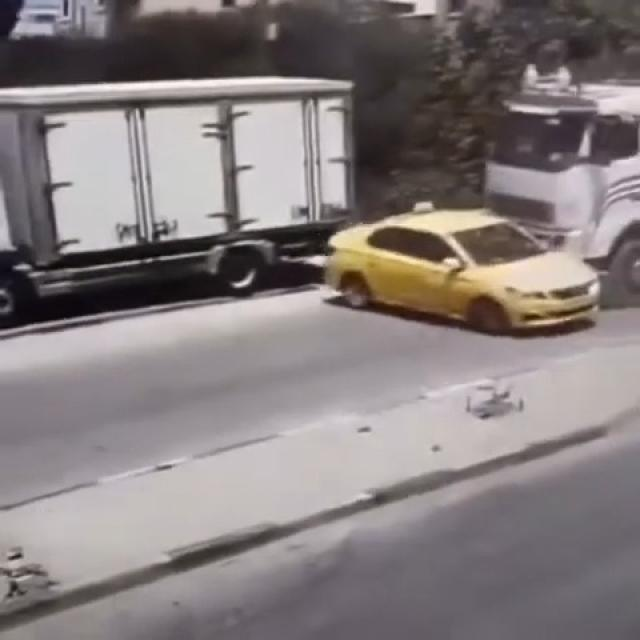accident: (344, 78, 640, 338)
